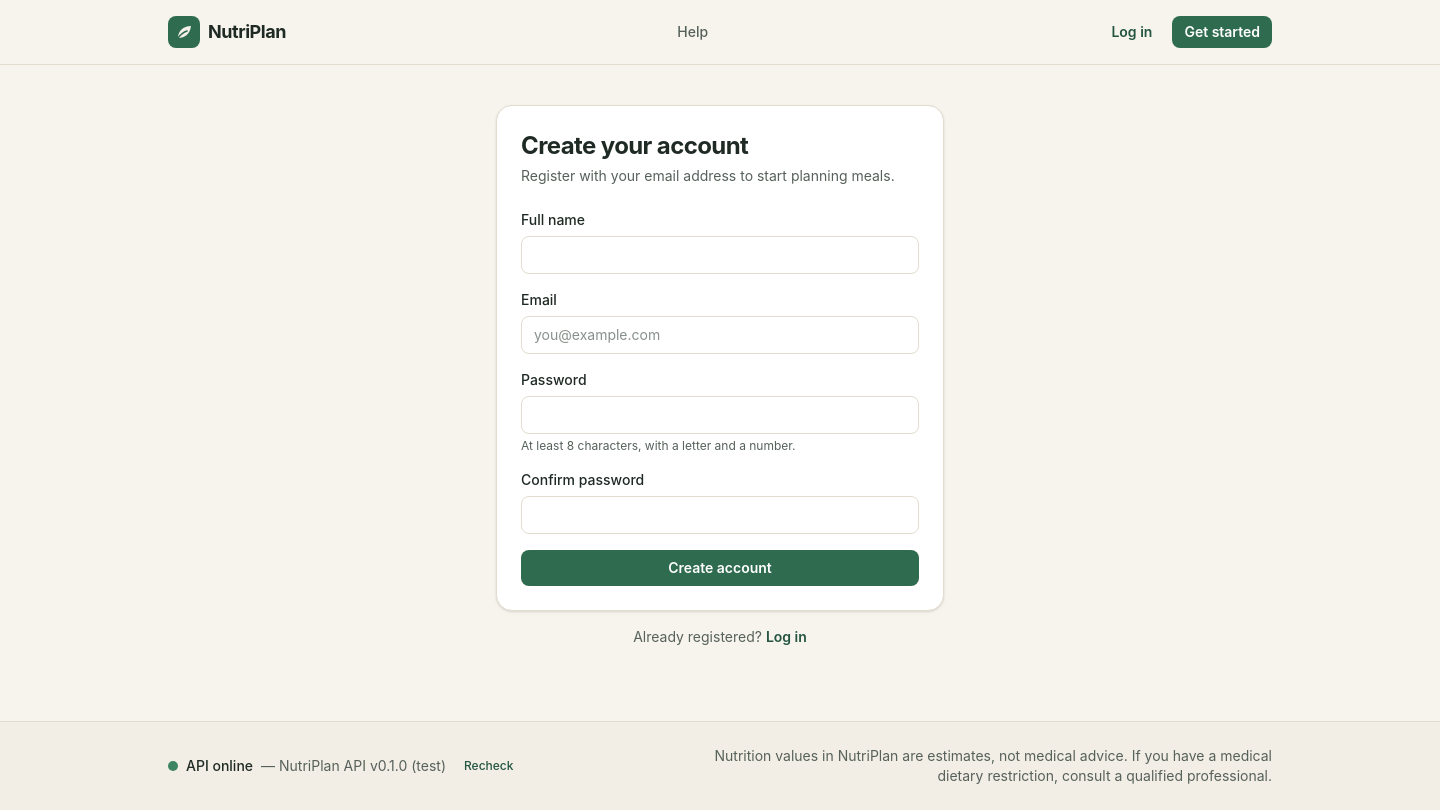
Test: Register (UC-01) › shows a duplicate email inline
The image size is (1440, 810).
Type "Asha" into the field labelled "Full name" at (720,255), box [521,236,919,274]
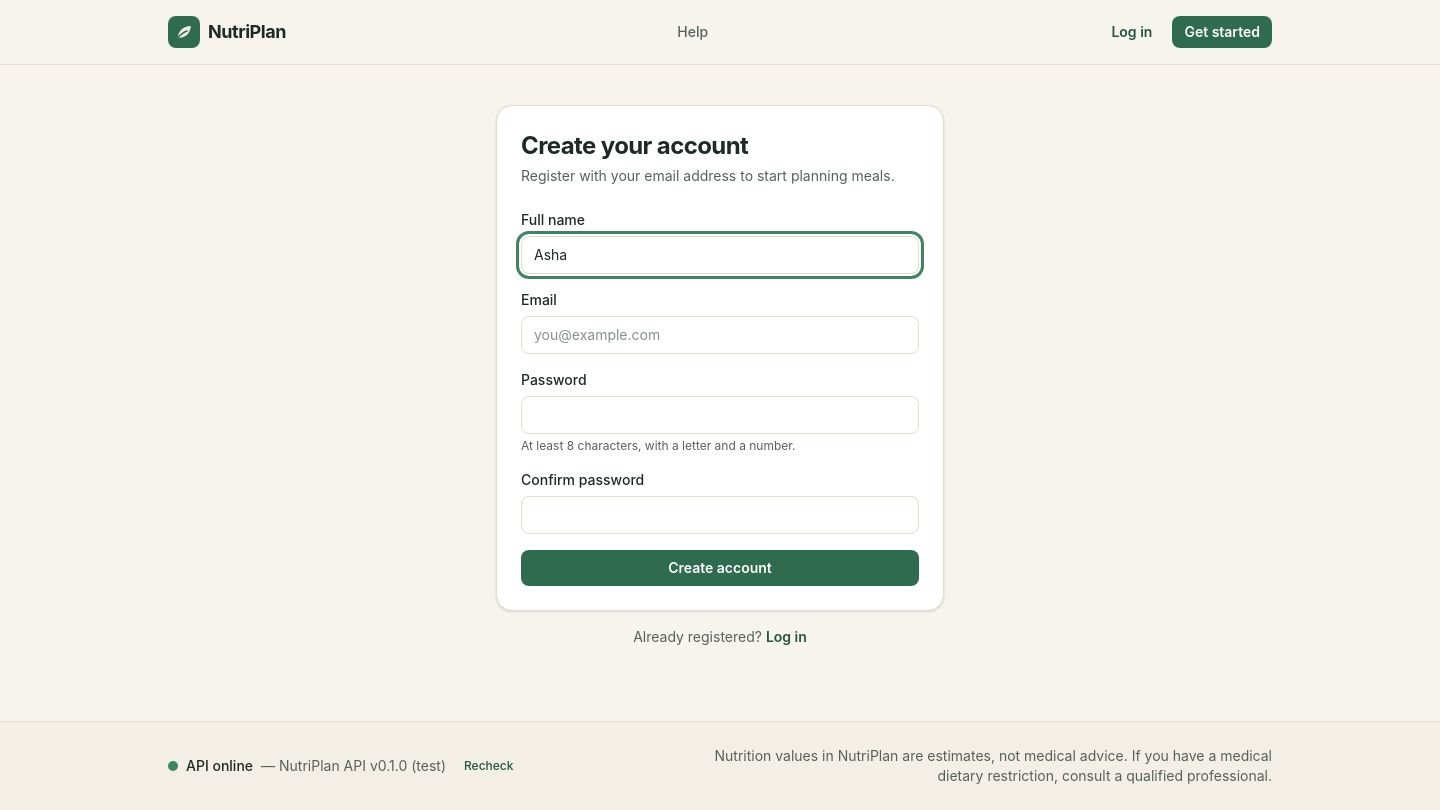
Type "asha@example.com" into the field labelled "Email" at (720,335), box [521,316,919,354]
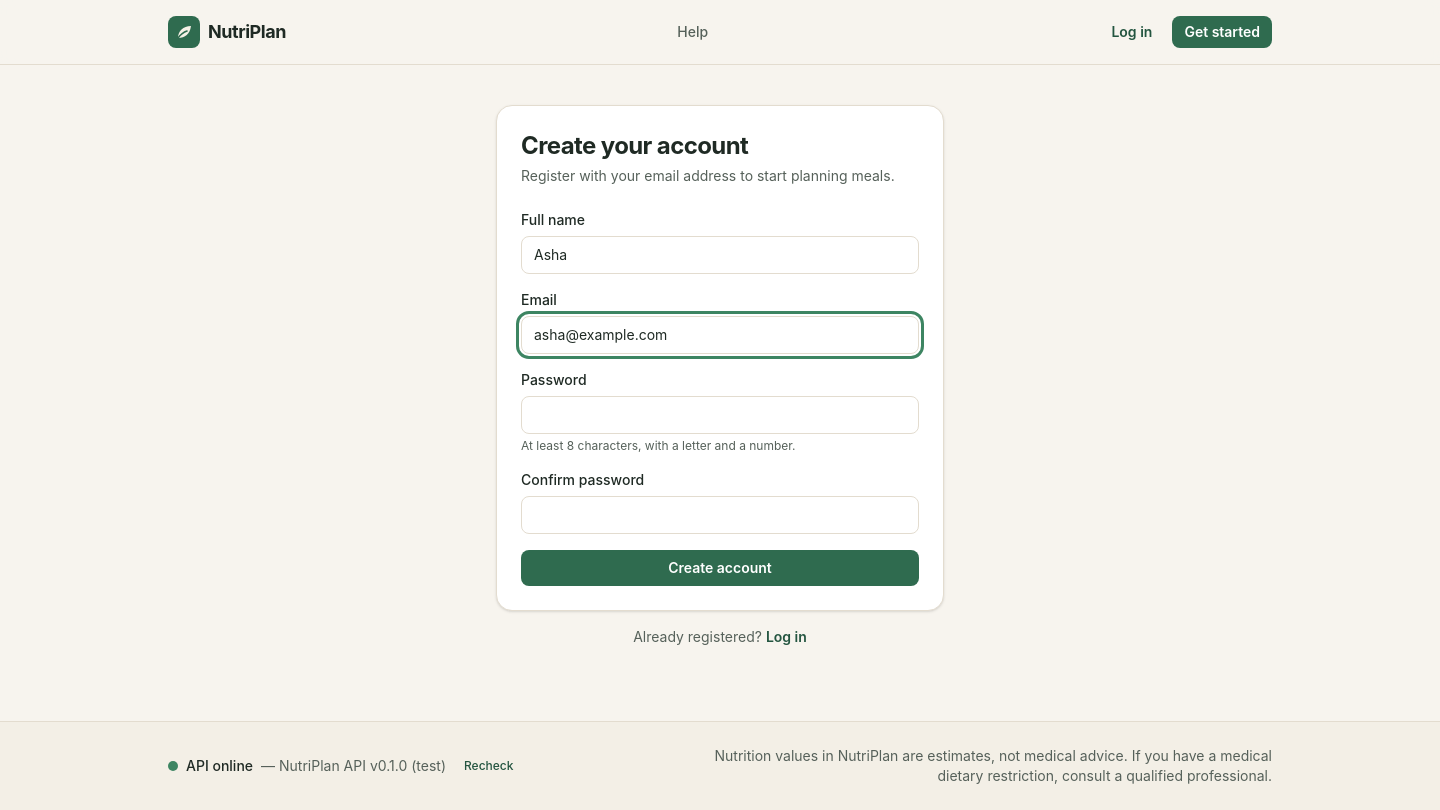
Type "Secret123" into the password field labelled "Password" at (720,415), box [521,396,919,434]
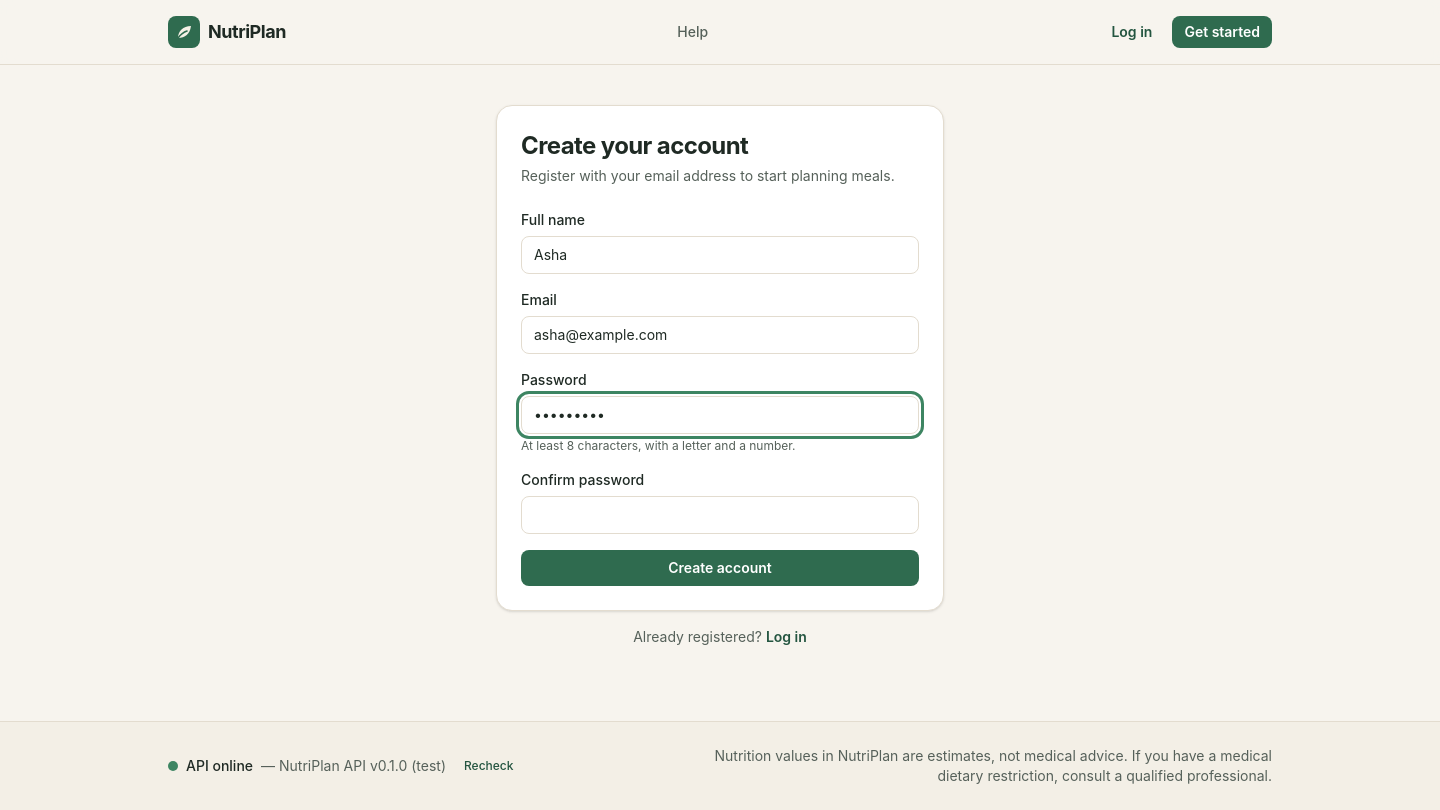
Type "Secret123" into the password field labelled "Confirm password" at (720,515), box [521,496,919,534]
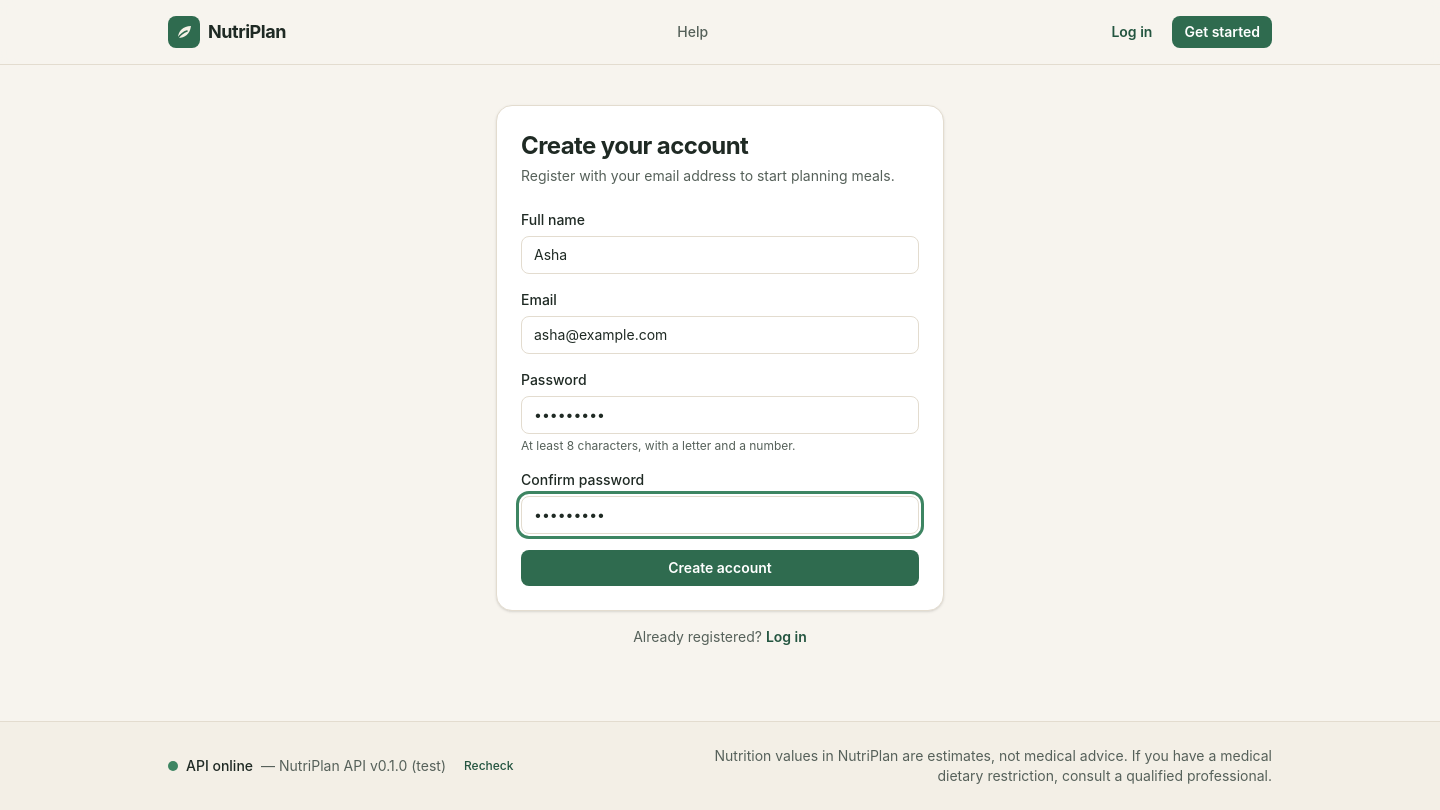
Click the button "Create account" at (720,568), box [521,550,919,586]
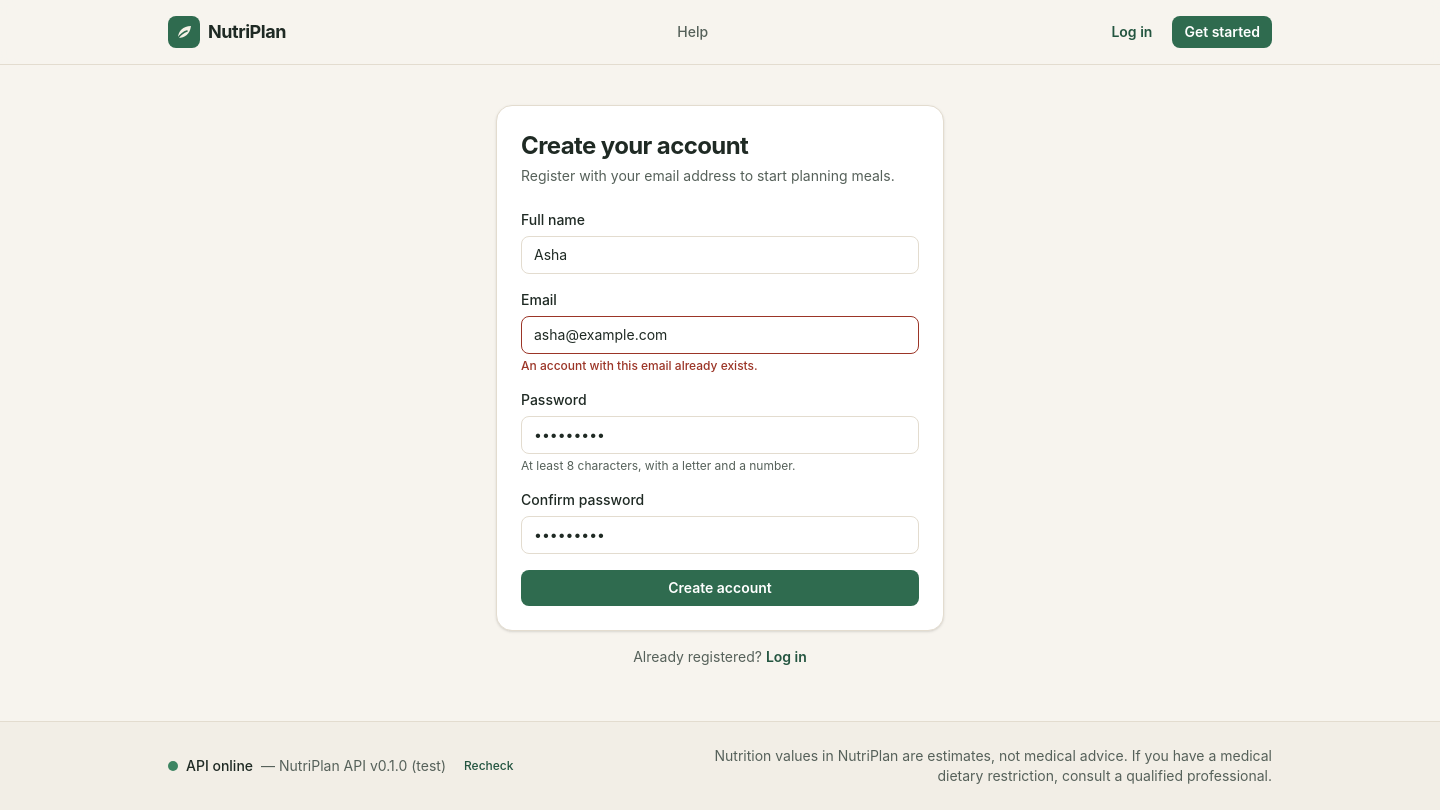
Expected: the text "An account with this email already exists." is shown, [521,358,758,373]
